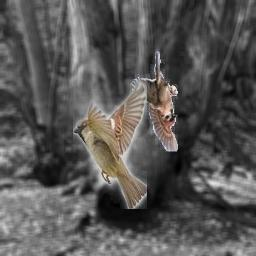Sparrow: (73, 79, 147, 209), (130, 49, 178, 152)
